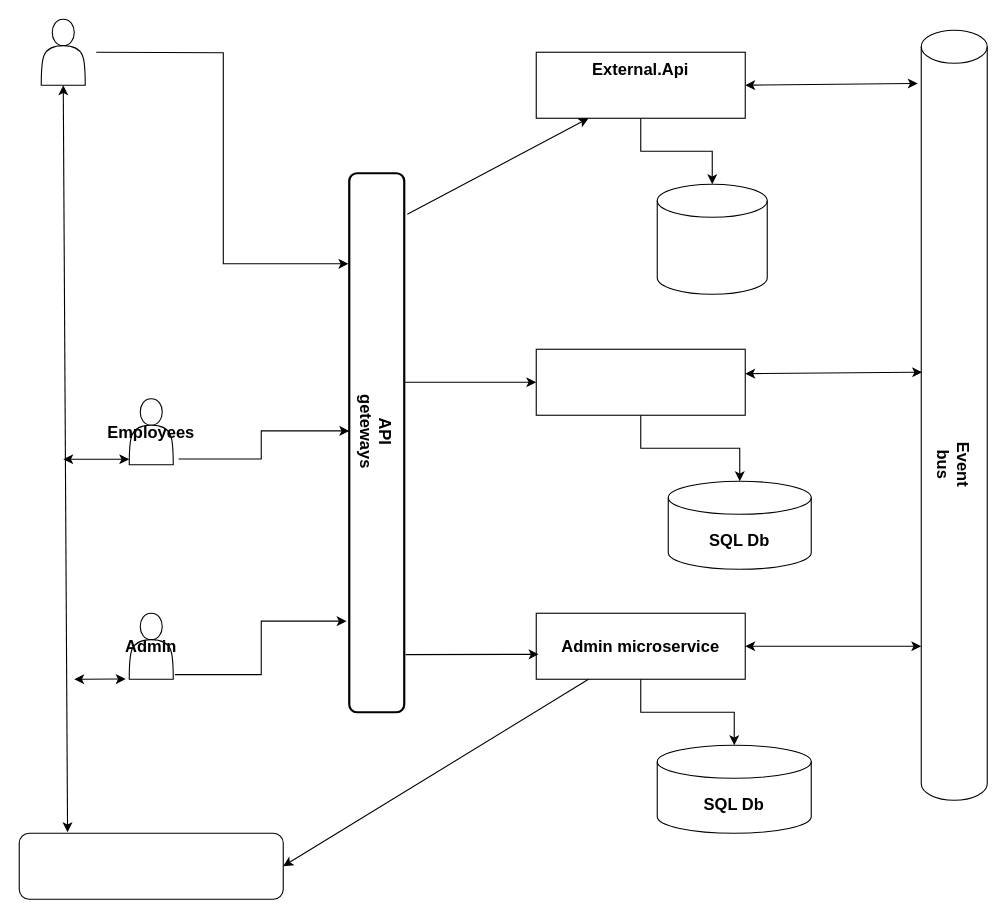
The diagram is 1007 pixels wide and 919 high, and some of its shapes have lost their labels. Here are the shapes that lost their labels. From the top down, the box of each, then its label:
(40, 18, 85, 85): External clients
(656, 183, 767, 294): Mongo Db
(535, 348, 745, 415): Order microservice
(18, 832, 283, 899): Identity
